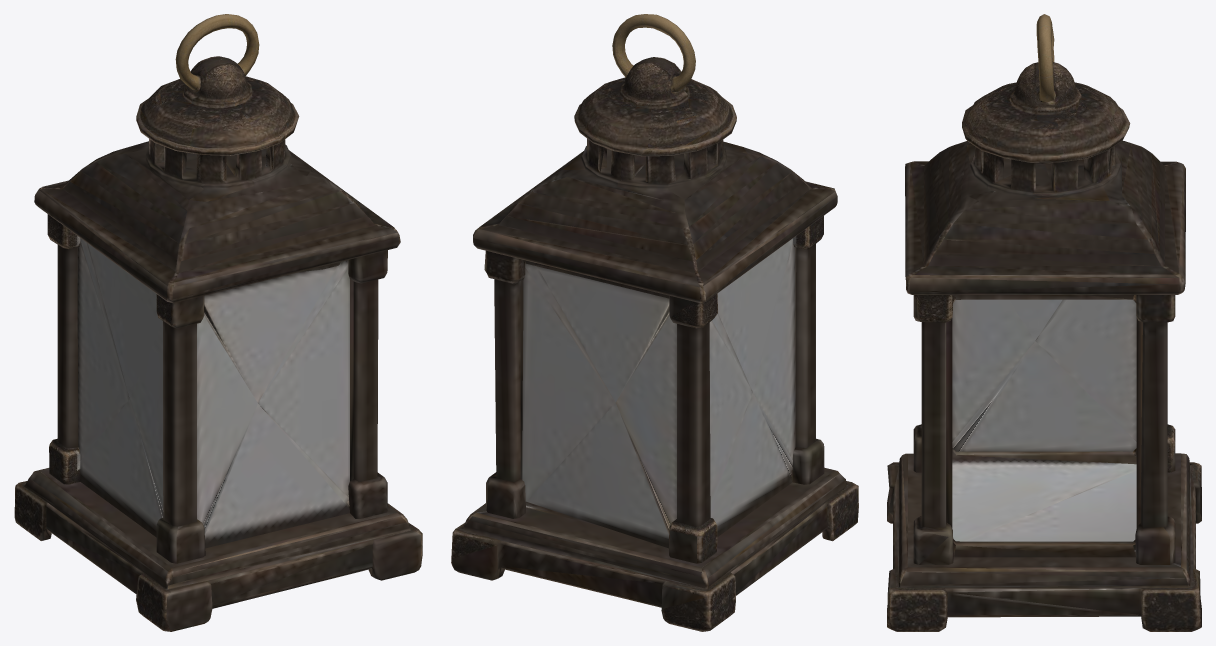
The model's file is diorama-lantern.glb.
The picture shows the model from 3 angles, left to right: view 1: azimuth 30°, elevation 25°; view 2: azimuth 150°, elevation 25°; view 3: azimuth 270°, elevation 25°; orthographic projection. The views are drawn at different scales.
Size of the model in its own units: 0.4844 by 0.9512 by 0.4937.
Materials: 1 (1 with a texture image).
